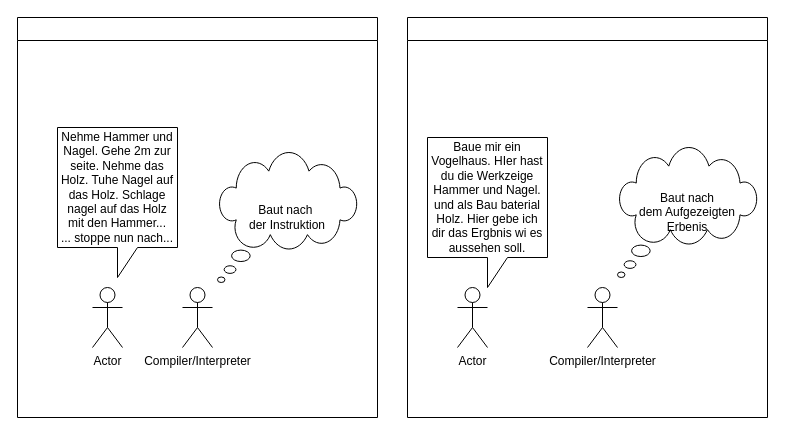
Image size: 785x435. Some labels were removed from this diagram. The box of each missing label's shape, as (x1, y1, x2, y2) in pixels:
deklarative Programmierung: (406, 16, 768, 418)
imperative Programmierung: (16, 16, 378, 418)
